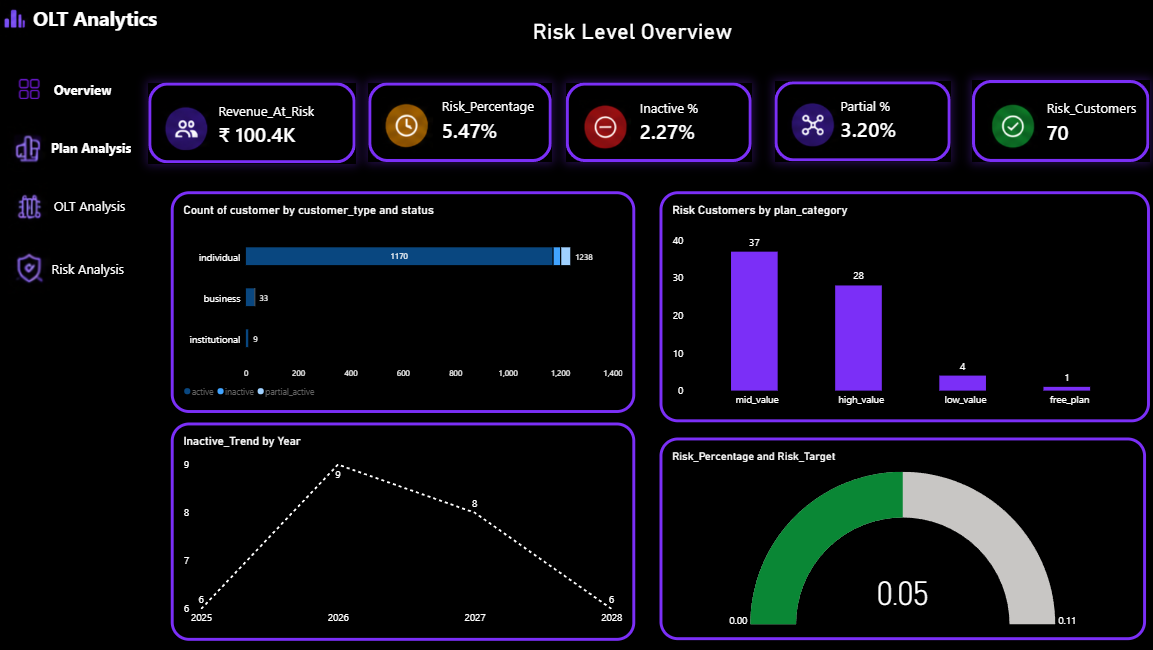

Layout of this report page (visuals, bound fields, positions):
{"tool":"powerbi","page":{"name":"Risk Analysis","canvas":[1920,1080],"ordinal":3},"visuals":[{"type":"cardVisual","fields":{"Data":["OLT.Risk_Customers"]},"box":[1601.4,139,290.8,134.7],"z":0},{"type":"cardVisual","fields":{"Data":["OLT.Risk_Percentage"]},"box":[615.8,143.3,300,130.4],"z":1000},{"type":"cardVisual","fields":{"Data":["OLT.Inactive %"]},"box":[938.6,143.3,304.3,130.4],"z":2000},{"type":"cardVisual","fields":{"Data":["OLT.Partial %"]},"box":[1278.2,140,288.2,131.7],"z":3000},{"type":"shape","box":[0,0,269.4,1079.7],"z":4000},{"type":"image","box":[8.6,0,51.3,74.8],"z":5000},{"type":"actionButton","box":[0,106.9,207.4,98.4],"z":6000},{"type":"actionButton","box":[0,201,239.5,100.5],"z":7000},{"type":"actionButton","box":[15,301.5,290.2,86.4],"z":8000},{"type":"actionButton","box":[17.1,406.2,211.7,81.2],"z":9000},{"type":"cardVisual","fields":{"Data":["OLT.Revenue_At_Risk"]},"box":[254.4,143.3,340,132.6],"z":10000},{"type":"clusteredColumnChart","fields":{"Category":["OLT.plan_category"],"Y":["OLT.Risk Customers"]},"box":[1090.5,320.4,801.9,377.6],"z":11000},{"type":"barChart","fields":{"Category":["OLT.customer_type"],"Series":["OLT.status"],"Y":["CountNonNull(OLT.customer)"]},"box":[292.8,320.4,759.5,362.8],"z":12000},{"type":"lineChart","fields":{"Category":["OLT.activation date.Variation.Date Hierarchy.Year","OLT.activation date.Variation.Date Hierarchy.Quarter","OLT.activation date.Variation.Date Hierarchy.Month","OLT.activation date.Variation.Date Hierarchy.Day"],"Y":["OLT.Inactive_Trend"]},"box":[292.8,698,759.5,356.4],"z":13000},{"type":"gauge","fields":{"TargetValue":["OLT.Risk_Target"],"Y":["OLT.Risk_Percentage"]},"box":[1090.5,723.4,795.6,331],"z":14000},{"type":"textbox","title":"Risk Level Overview","box":[855,38.2,386.1,44.6],"z":15000}]}

Visuals, with their boxes on the page's 1920x1080 design canvas (x1, y1, x2, y2). These are canvas units, not pixel positions in the 1153x650 screenshot, which may show the page scaled, cropped or inside an application window:
cardVisual - OLT.Risk_Customers: (x1=1601, y1=139, x2=1892, y2=274)
cardVisual - OLT.Risk_Percentage: (x1=616, y1=143, x2=916, y2=274)
cardVisual - OLT.Inactive %: (x1=939, y1=143, x2=1243, y2=274)
cardVisual - OLT.Partial %: (x1=1278, y1=140, x2=1566, y2=272)
shape: (x1=0, y1=0, x2=269, y2=1080)
image: (x1=9, y1=0, x2=60, y2=75)
actionButton: (x1=0, y1=107, x2=207, y2=205)
actionButton: (x1=0, y1=201, x2=240, y2=302)
actionButton: (x1=15, y1=302, x2=305, y2=388)
actionButton: (x1=17, y1=406, x2=229, y2=487)
cardVisual - OLT.Revenue_At_Risk: (x1=254, y1=143, x2=594, y2=276)
clusteredColumnChart - OLT.plan_category x OLT.Risk Customers: (x1=1090, y1=320, x2=1892, y2=698)
barChart - OLT.customer_type x OLT.status: (x1=293, y1=320, x2=1052, y2=683)
lineChart - OLT.activation date.Variation.Date Hierarchy.Year x OLT.activation date.Variation.Date Hierarchy.Quarter: (x1=293, y1=698, x2=1052, y2=1054)
gauge - OLT.Risk_Target x OLT.Risk_Percentage: (x1=1090, y1=723, x2=1886, y2=1054)
"Risk Level Overview" textbox: (x1=855, y1=38, x2=1241, y2=83)
